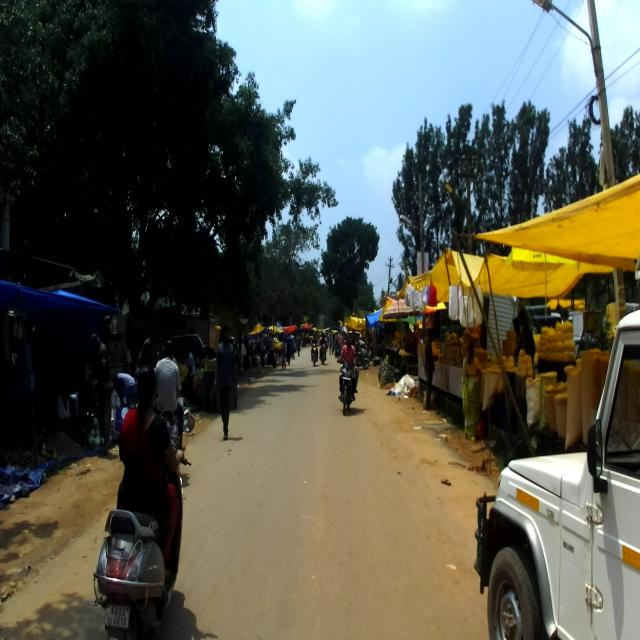scooter: (85, 414, 195, 638)
truck: (473, 307, 640, 639)
